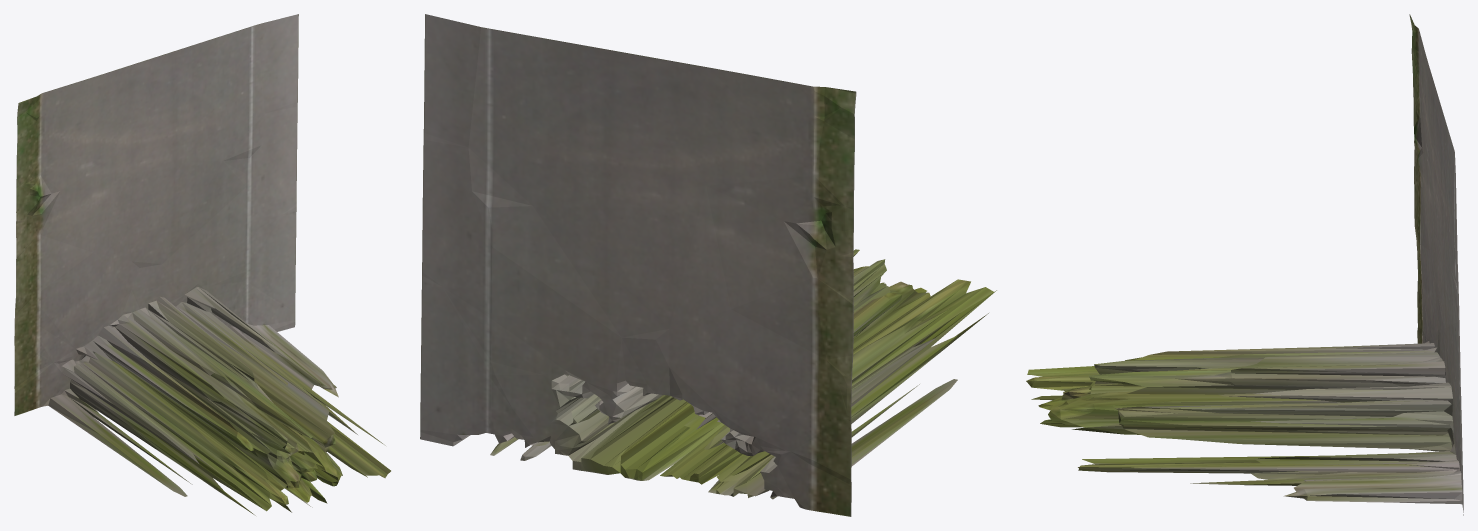
Rendered from map_20_80.obj.
3 renders of one model, left to right at view 1: azimuth 30°, elevation 25°; view 2: azimuth 150°, elevation 25°; view 3: azimuth 270°, elevation 25°, orthographic. The views are drawn at different scales.
Visible parts, largest first — view 1: grp1; view 2: grp1; view 3: grp1.
Part boxes in pixels (<box>): grp1: <box>14,14,390,515</box>; grp1: <box>420,14,996,516</box>; grp1: <box>1026,14,1463,515</box>.
Size of the model in its own units: 10 by 10 by 11.57.
Materials: 1 (1 with a texture image).
